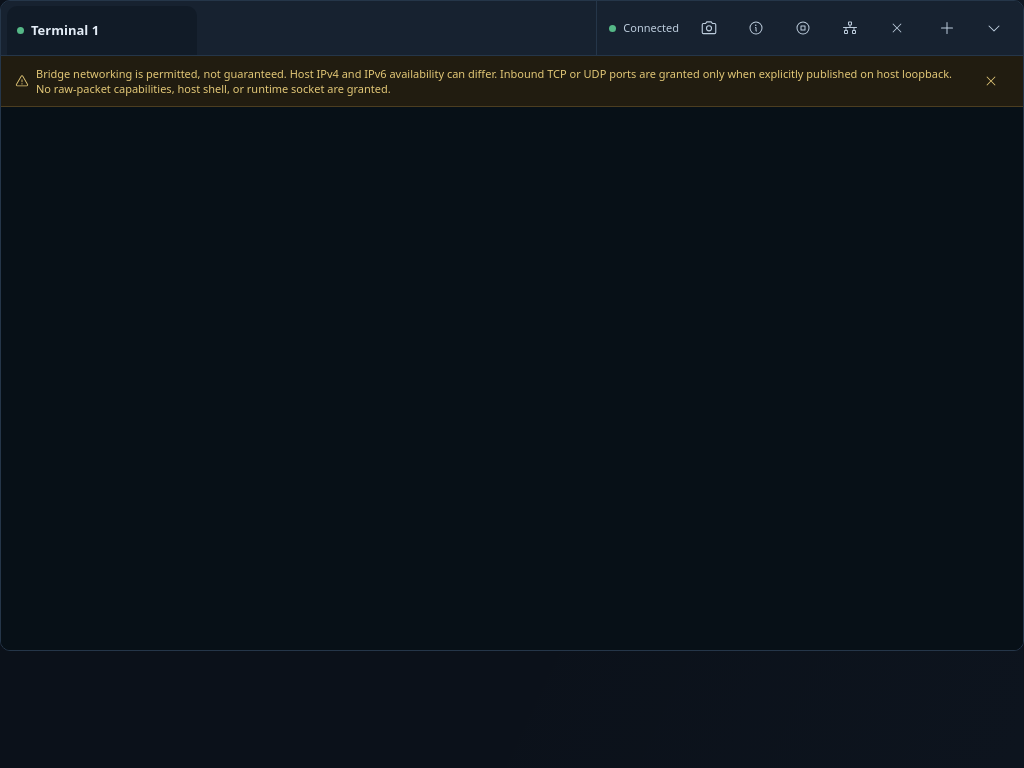
Test: ContainerTerminalPanel › adds a fresh terminal tab without remounting the existing socket
The width and height of the screenshot is (1024, 768).
Click the button named "New terminal" at (947, 28), box [925,6,969,50]
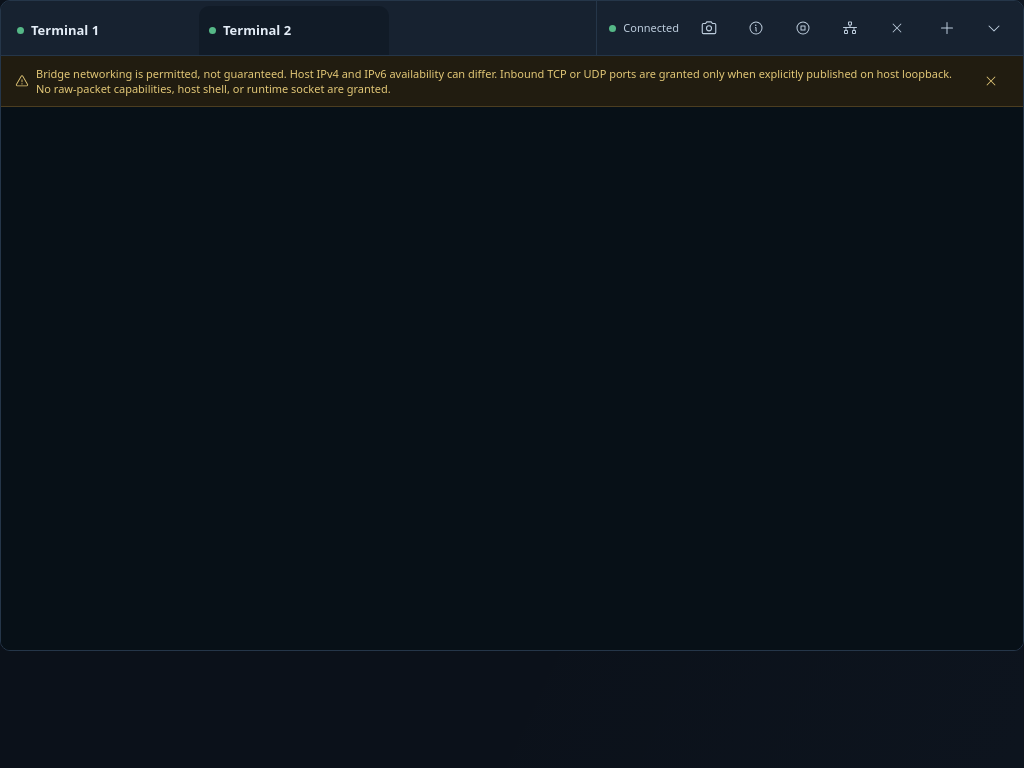
Click the button named "Terminal network settings" at (850, 28), box [828,6,872,50]
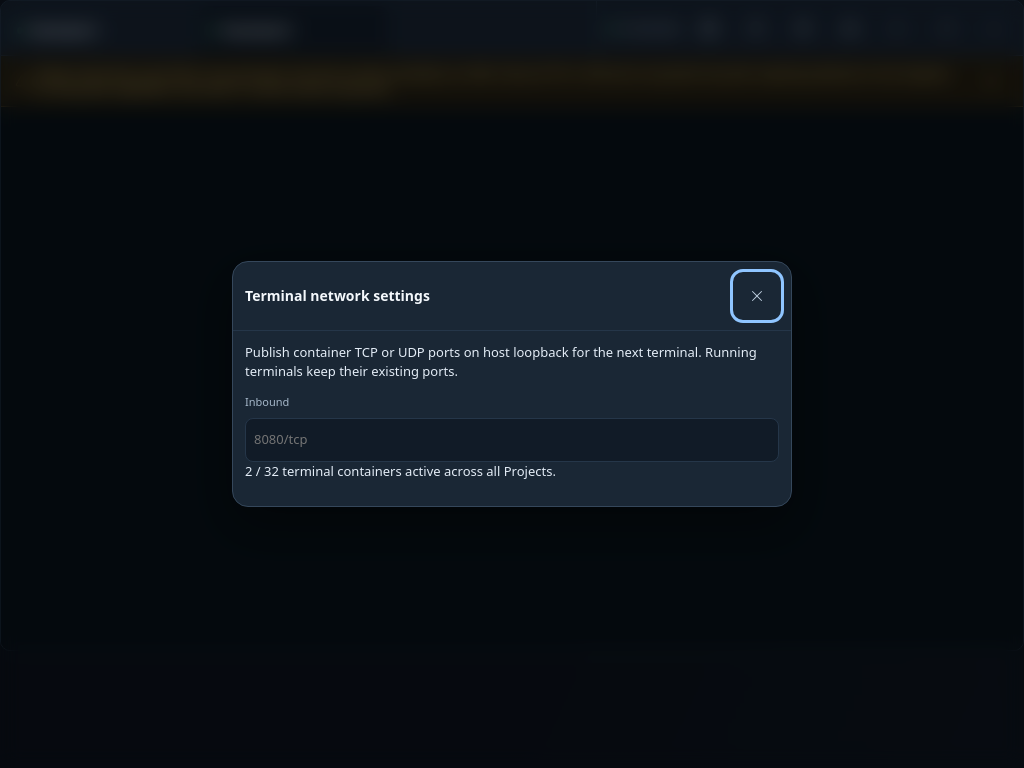
expect the text "2 / 32 terminal containers active across all Projects." is shown: met, box [245,462,556,480]
